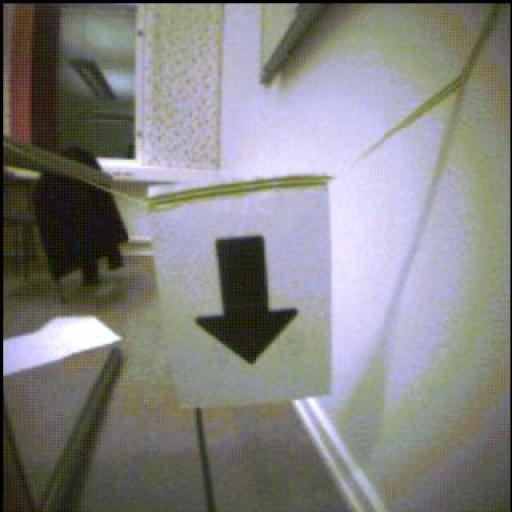arrow: (198, 238, 299, 364)
